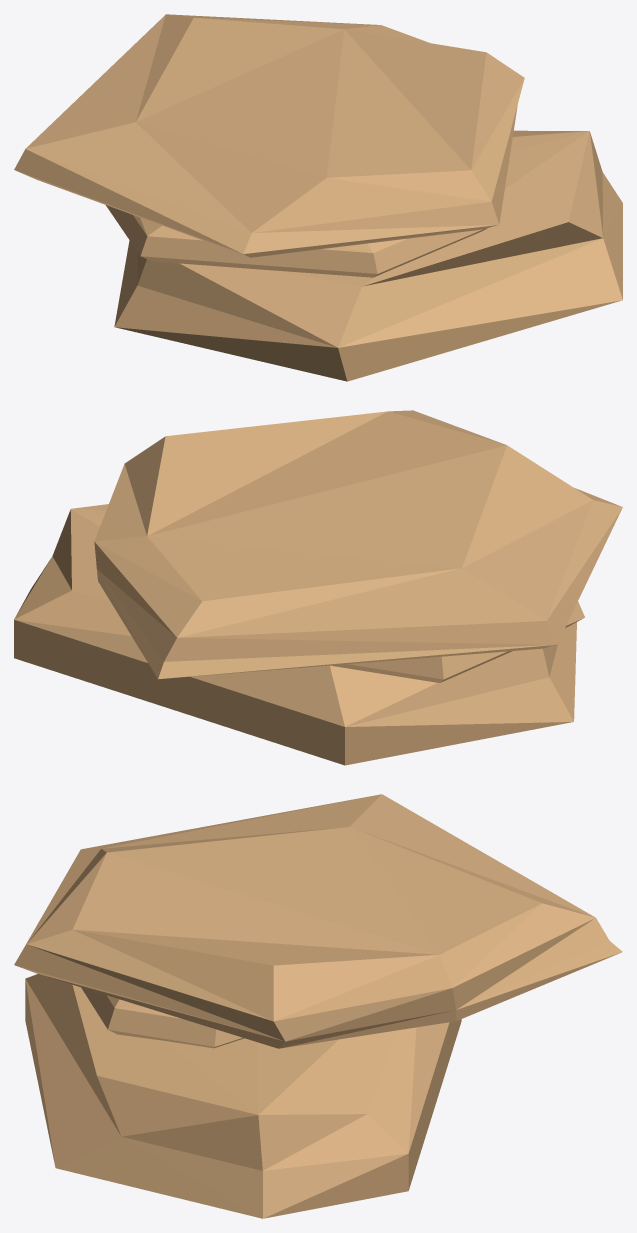
Rendered from Rock_21.fbx.
The picture shows the model from 3 angles, top to bottom: view 1: azimuth 30°, elevation 25°; view 2: azimuth 150°, elevation 25°; view 3: azimuth 270°, elevation 25°; orthographic projection. The views are drawn at different scales.
Visible parts, largest first — view 1: Rock_21; view 2: Rock_21; view 3: Rock_21.
Boxes of the visible parts, left/top/right/bottom form: Rock_21: left=14, top=14, right=622, bottom=381; Rock_21: left=14, top=410, right=622, bottom=765; Rock_21: left=14, top=794, right=622, bottom=1218.
Bounding box in the file's own units: 263 × 242 × 81.75.
